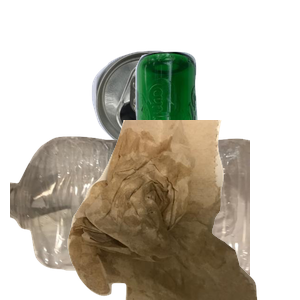glass: (129, 49, 300, 229)
metal: (89, 48, 276, 192)
plastic: (10, 134, 250, 300)
trash: (65, 120, 300, 300)
